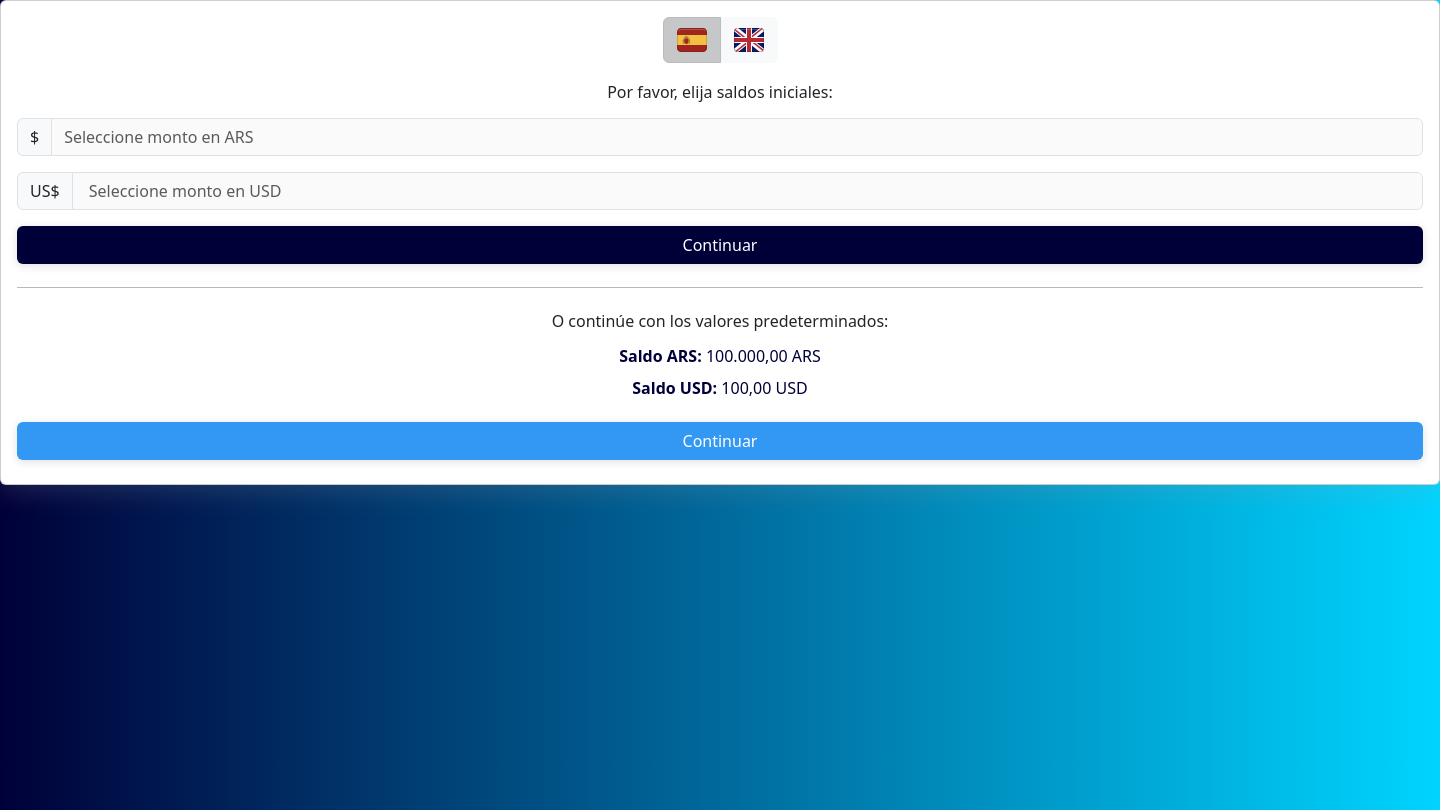
Scenario: ChooseAmounts Component › should show error message if ARS amount is negative
Type "-50" into the number field with placeholder "Seleccione monto en ARS" at (737, 137), box [51,118,1423,156]
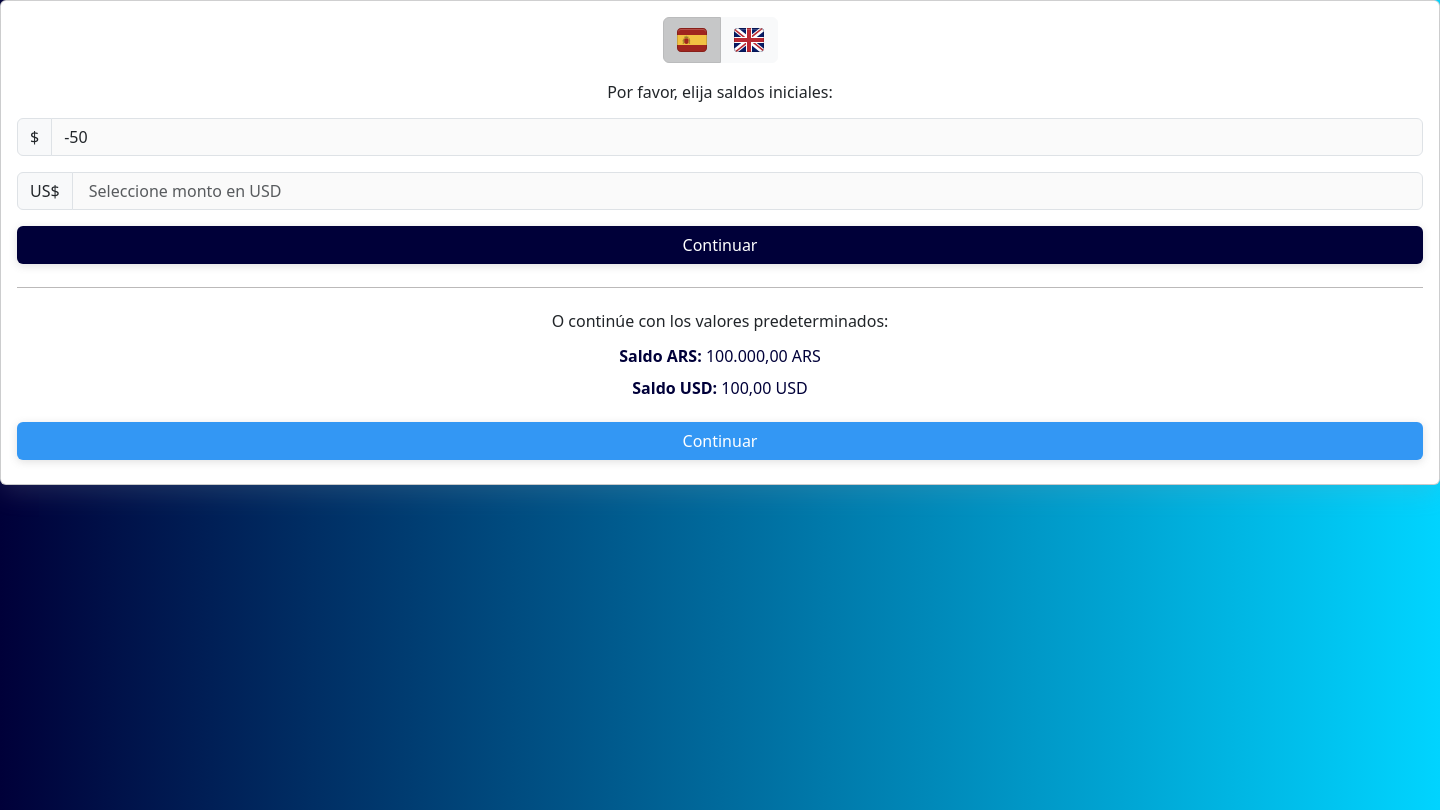
Type "50" into the number field with placeholder "Seleccione monto en USD" at (747, 191), box [72,172,1423,210]
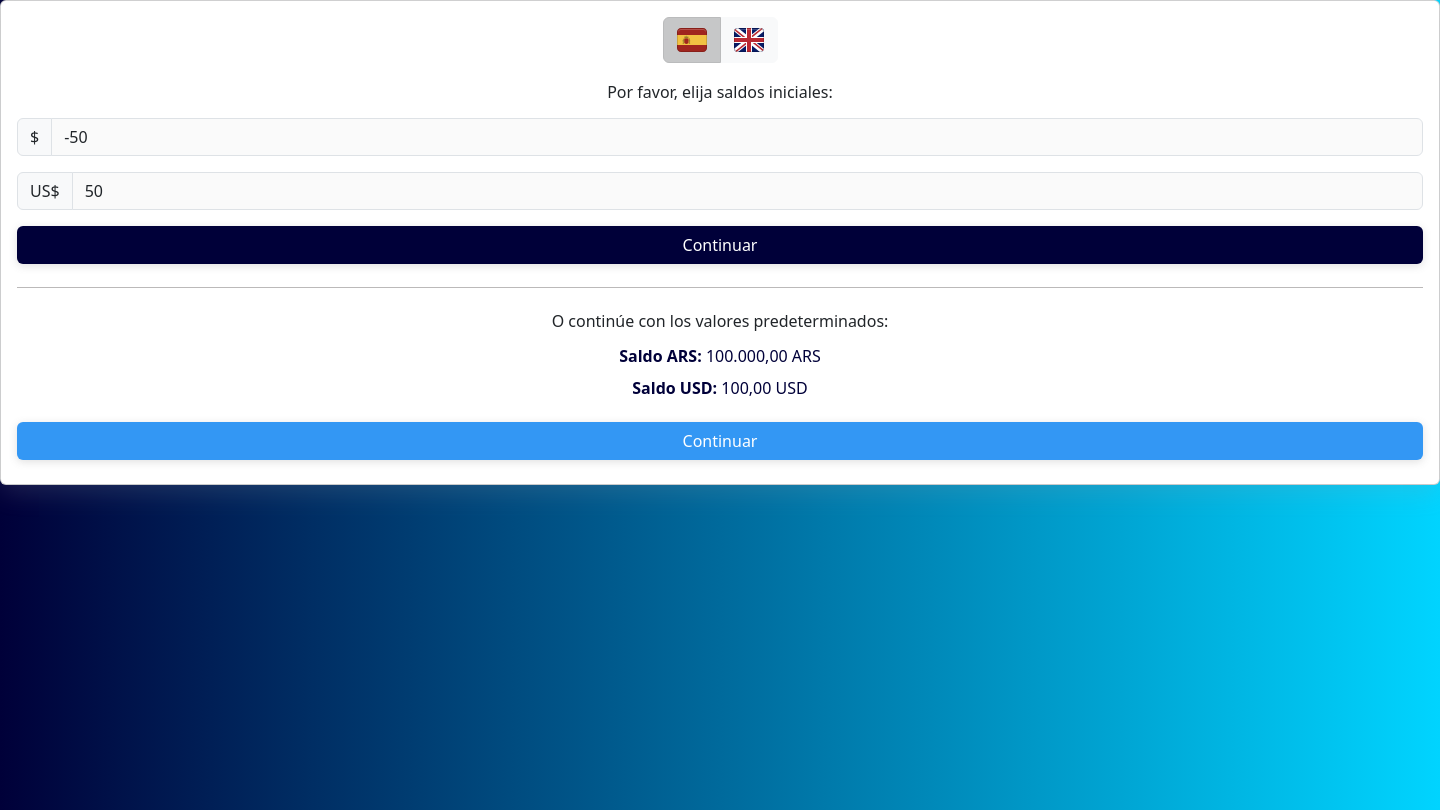
Click the 1st button "Continuar" at (720, 245), box [17,226,1423,264]
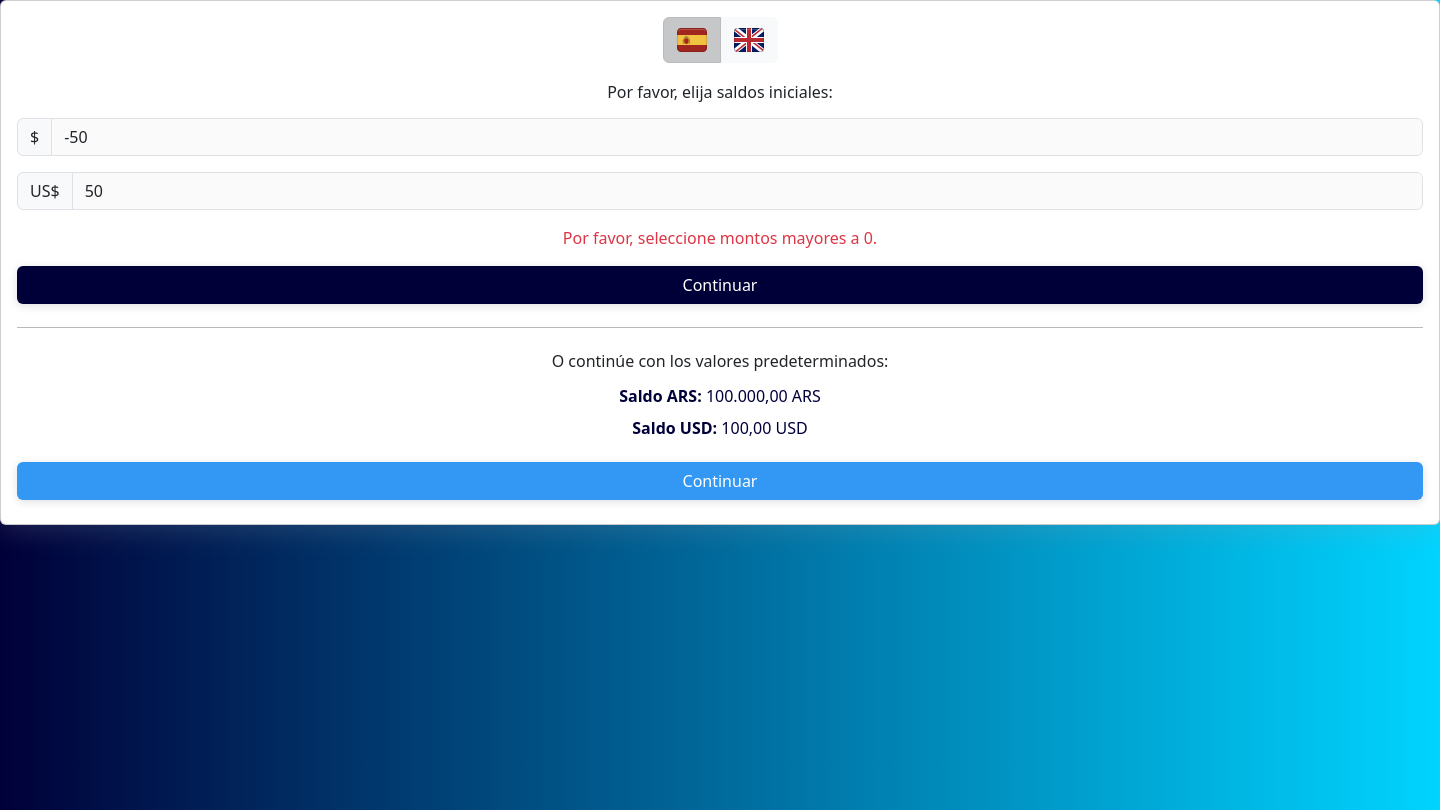
Result: the text "Por favor, seleccione montos mayores a 0." is shown at [563,227,877,249]
